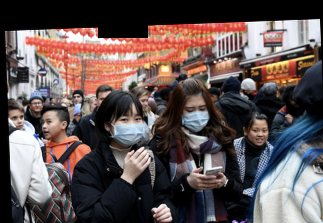with_mask: (112, 110, 145, 146), (181, 102, 210, 133)
without_mask: (40, 114, 60, 139), (247, 123, 269, 145), (9, 112, 25, 129), (30, 98, 44, 112), (138, 96, 149, 110), (72, 94, 83, 103)
